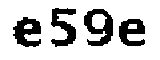5: (47, 4, 80, 50)
9: (81, 6, 115, 47)
e: (116, 14, 148, 52), (12, 15, 44, 51)
